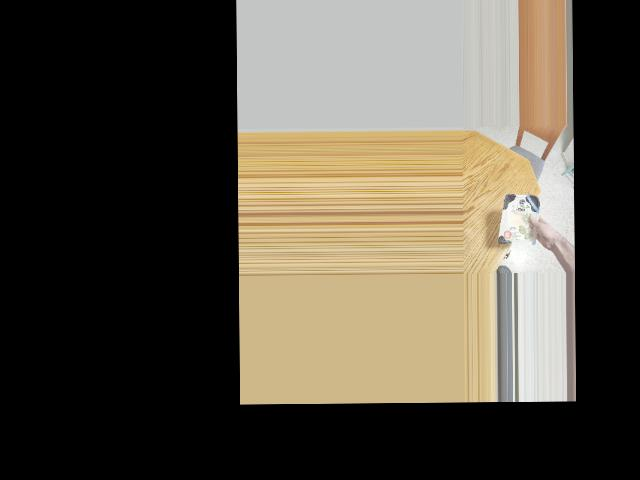cheese: (497, 186, 542, 250)
